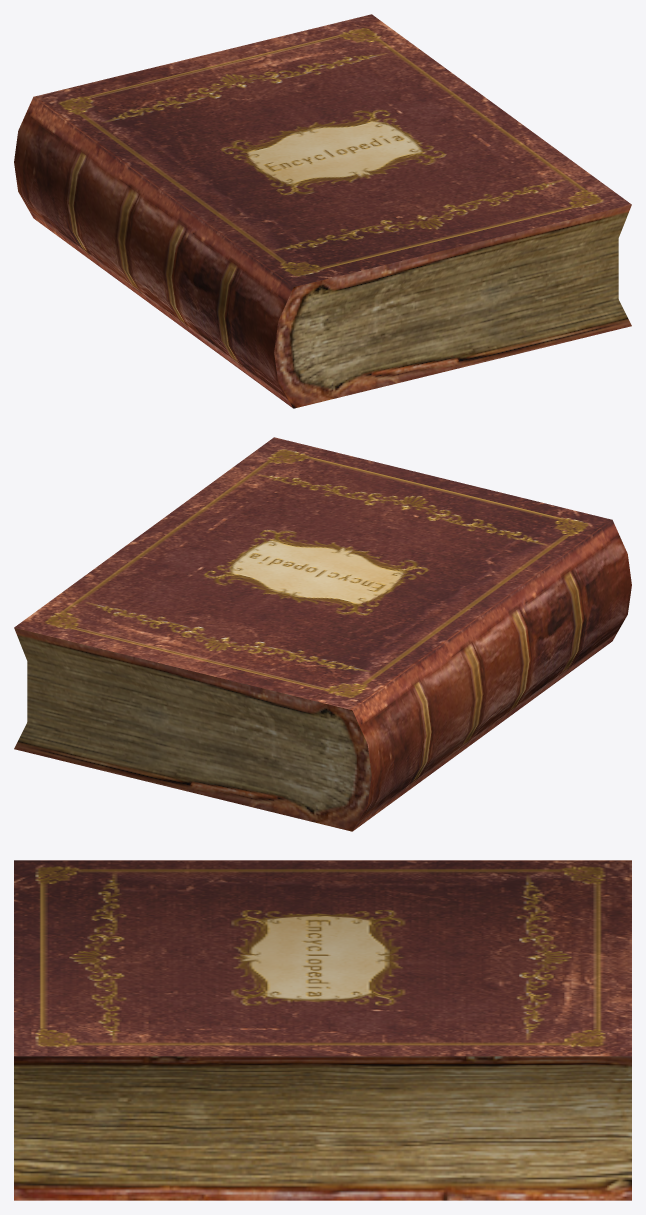
File: book.fbx
The picture shows the model from 3 angles, top to bottom: view 1: azimuth 30°, elevation 25°; view 2: azimuth 150°, elevation 25°; view 3: azimuth 270°, elevation 25°; orthographic projection. The views are drawn at different scales.
Visible parts, largest first — view 1: book; view 2: book; view 3: book.
Boxes of the visible parts, x1,y1,x2,y2 form: book: (14,14,631,408); book: (14,437,631,831); book: (14,860,631,1200).
Bounding box in the file's own units: 25.54 × 8.28 × 32.15.
